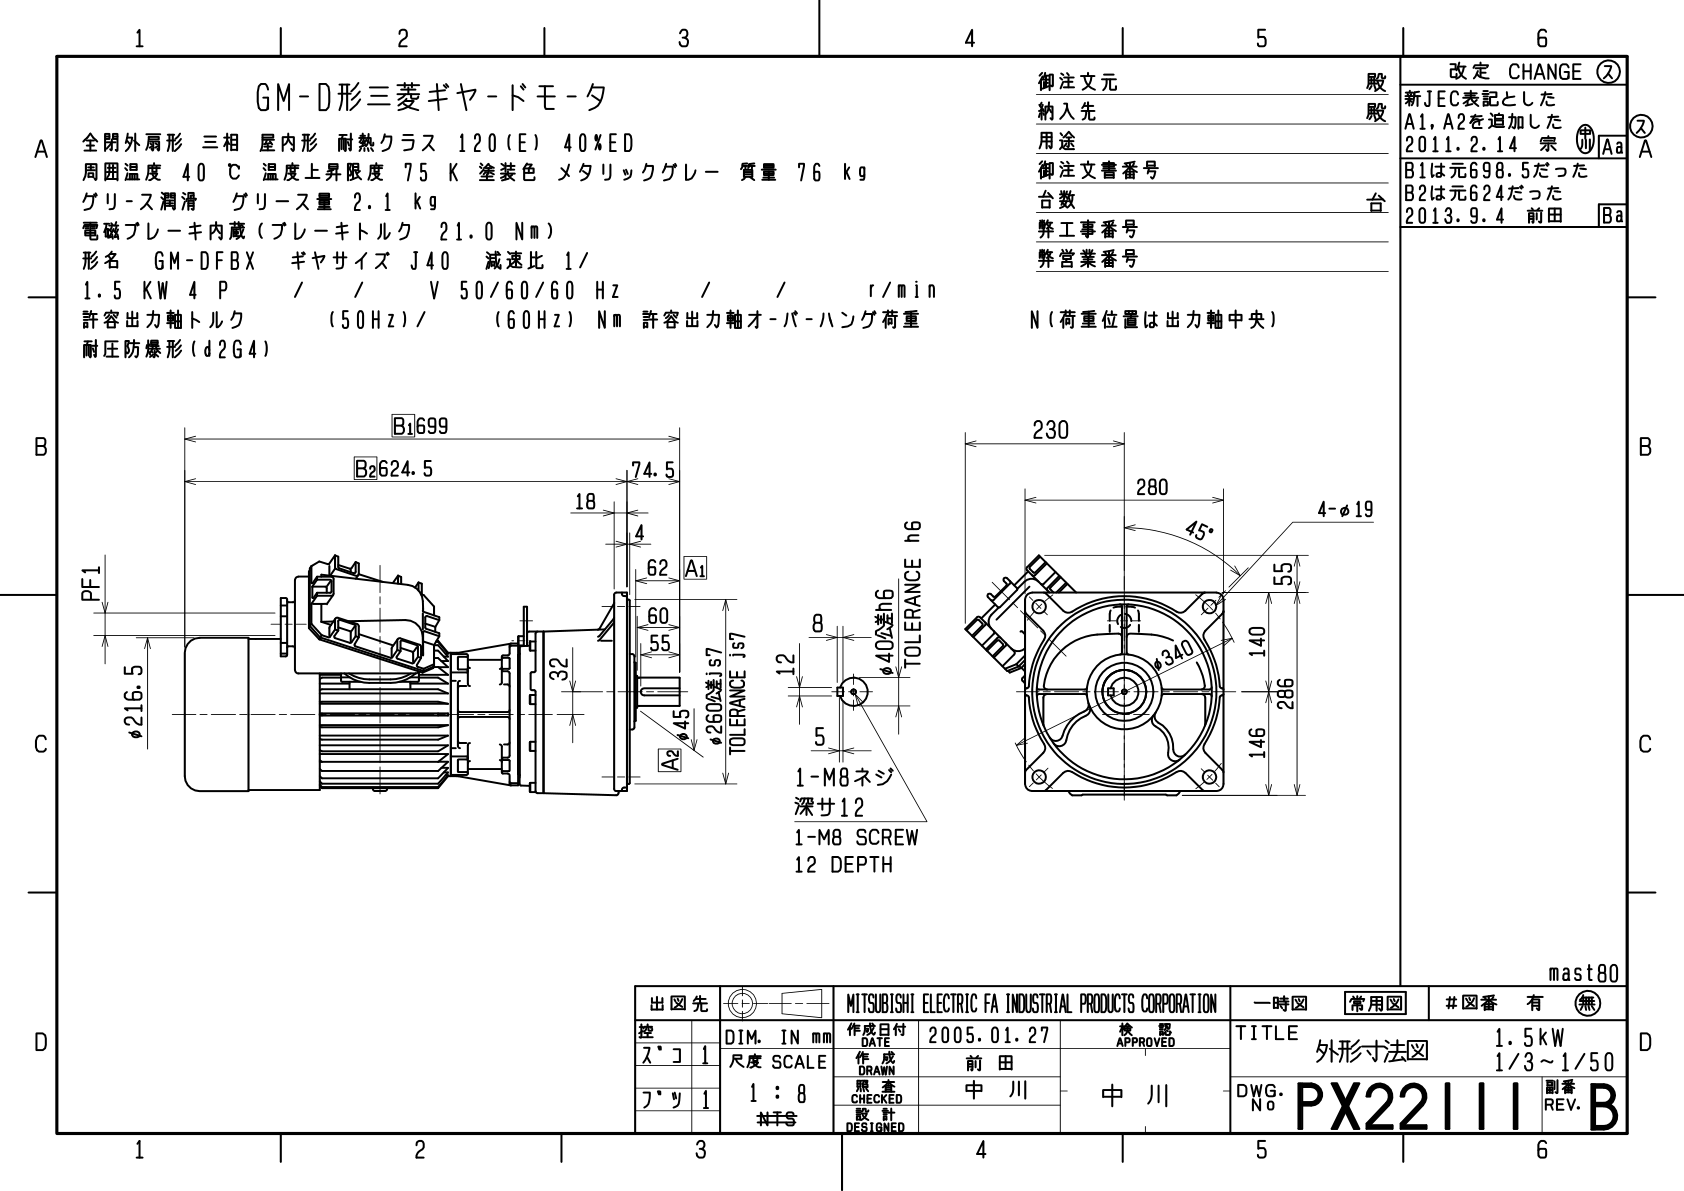GM_SP_屋内＿三相_フランジ: (67, 402, 1392, 895)
